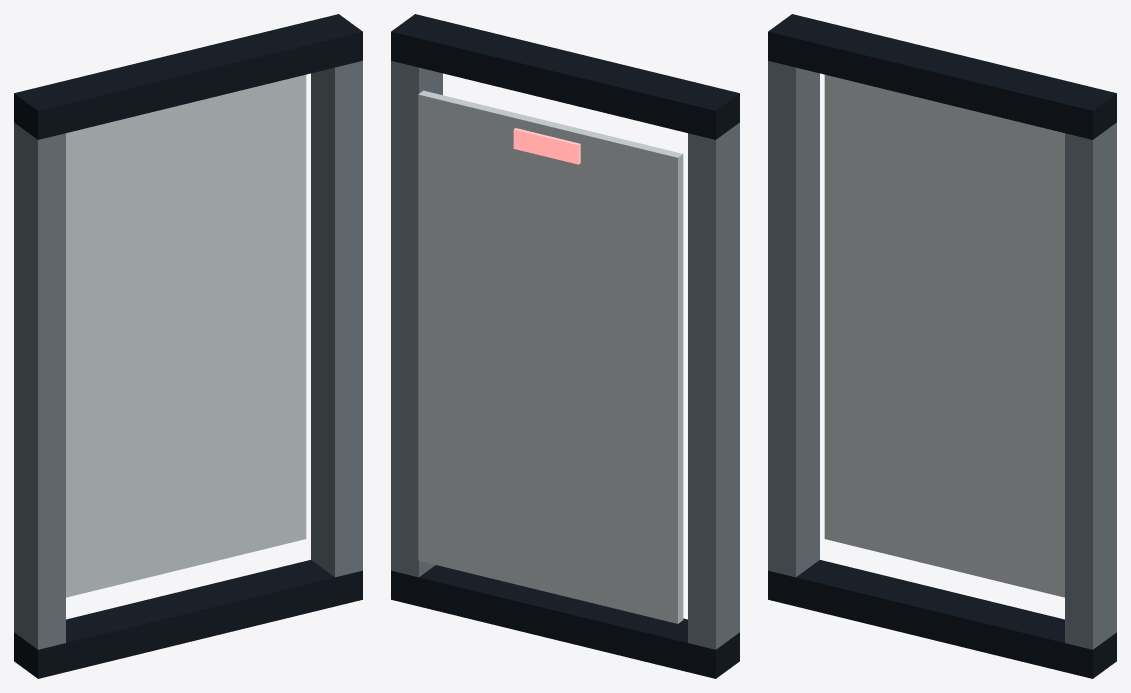
The model's file is np_z03_synthese_observation.glb.
3 renders of one model, left to right at view 1: azimuth 30°, elevation 25°; view 2: azimuth 150°, elevation 25°; view 3: azimuth 330°, elevation 25°, orthographic.
Visible parts, largest first — view 1: VitrageRenforce, MontantGauche, MontantDroit, CadreHaut, CadreBas; view 2: VitrageRenforce, MontantGauche, CadreHaut, MontantDroit, CadreBas, BaliseConfinement; view 3: VitrageRenforce, MontantDroit, MontantGauche, CadreHaut, CadreBas.
Boxes of the visible parts, x1,y1,x2,y2 form: VitrageRenforce: (66,74,306,597); MontantGauche: (14,122,65,649); MontantDroit: (311,61,362,577); CadreHaut: (14,14,362,139); CadreBas: (14,560,362,678); VitrageRenforce: (418,90,683,623); MontantGauche: (688,122,739,649); CadreHaut: (391,14,739,139); MontantDroit: (391,61,442,577); CadreBas: (391,565,739,678); BaliseConfinement: (513,128,580,164); VitrageRenforce: (824,74,1064,597); MontantDroit: (1065,122,1116,649); MontantGauche: (768,61,819,577); CadreHaut: (768,14,1116,139); CadreBas: (768,560,1116,678).
Size of the model in its own units: 1.4 by 2.34 by 0.235.
